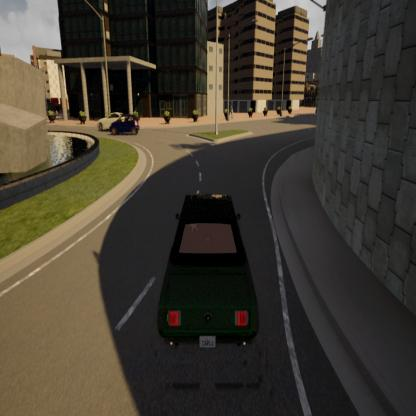Cars: (156, 185, 268, 366), (110, 110, 142, 141), (96, 108, 128, 134)
